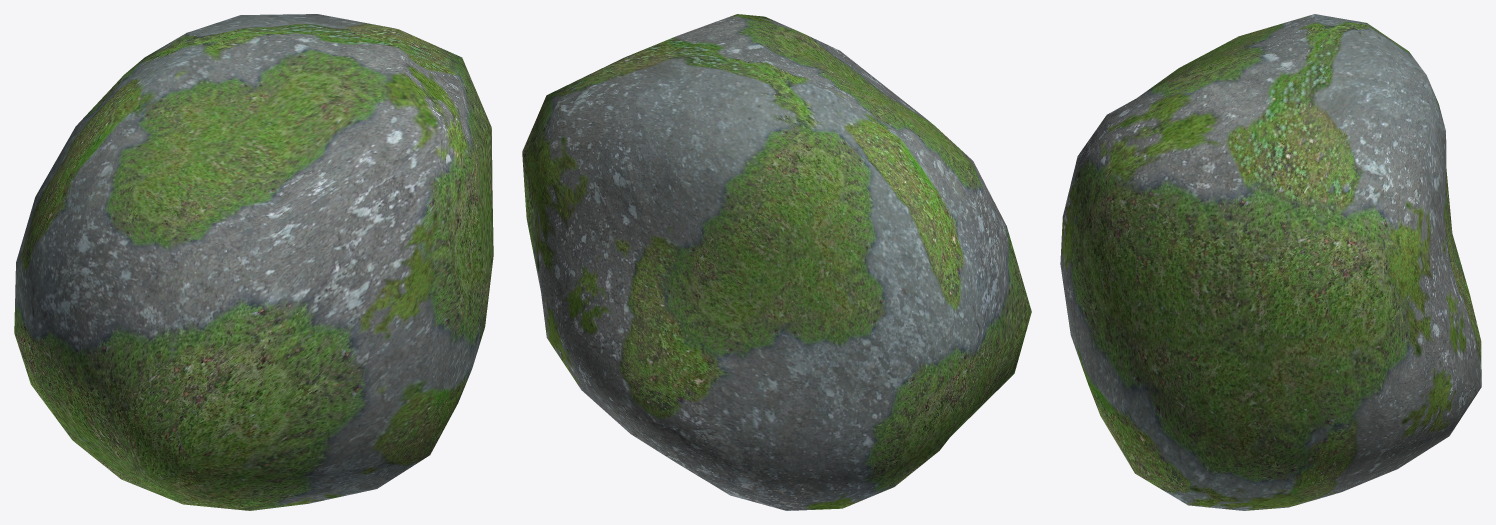
The model's file is Mossy Rock 1.obj.
3 renders of one model, left to right at view 1: azimuth 30°, elevation 25°; view 2: azimuth 150°, elevation 25°; view 3: azimuth 270°, elevation 25°, orthographic. The views are drawn at different scales.
Visible parts, largest first — view 1: Mossy_Rock_1; view 2: Mossy_Rock_1; view 3: Mossy_Rock_1.
Part boxes in pixels (bbox=[...]): Mossy_Rock_1: bbox=[14, 14, 493, 510]; Mossy_Rock_1: bbox=[522, 14, 1031, 510]; Mossy_Rock_1: bbox=[1060, 14, 1481, 510].
Bounding box in the file's own units: 1.6 × 1.5 × 1.25.
